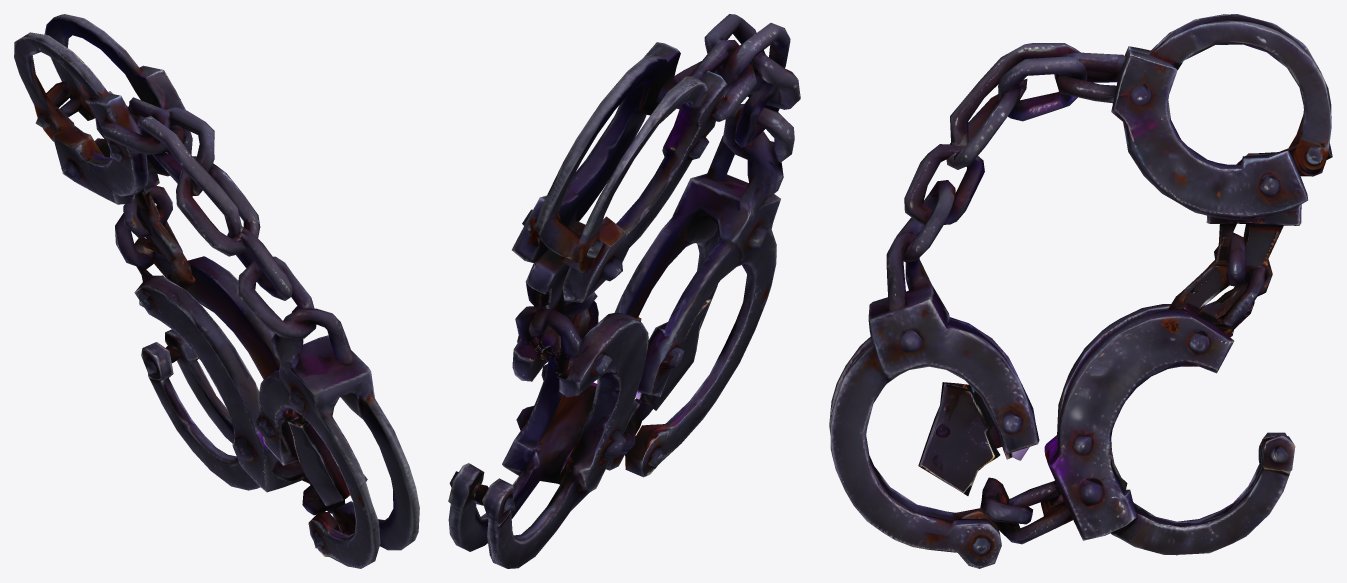
Rendered from metal+shackles+3d+model.obj.
3 views of the same model, side by side, from view 1: azimuth 30°, elevation 25°; view 2: azimuth 150°, elevation 25°; view 3: azimuth 270°, elevation 25° (orthographic). The views are drawn at different scales.
Visible parts, largest first — view 1: tripo_node_c7d1870a-3417-40f2-84f6-4a0fc878162f; view 2: tripo_node_c7d1870a-3417-40f2-84f6-4a0fc878162f; view 3: tripo_node_c7d1870a-3417-40f2-84f6-4a0fc878162f.
Boxes of the visible parts, x1,y1,x2,y2 form: tripo_node_c7d1870a-3417-40f2-84f6-4a0fc878162f: [14, 14, 419, 568]; tripo_node_c7d1870a-3417-40f2-84f6-4a0fc878162f: [448, 14, 800, 568]; tripo_node_c7d1870a-3417-40f2-84f6-4a0fc878162f: [829, 14, 1332, 568].
Size of the model in its own units: 0.4686 by 1 by 0.963.
Materials: 1 (1 with a texture image).
